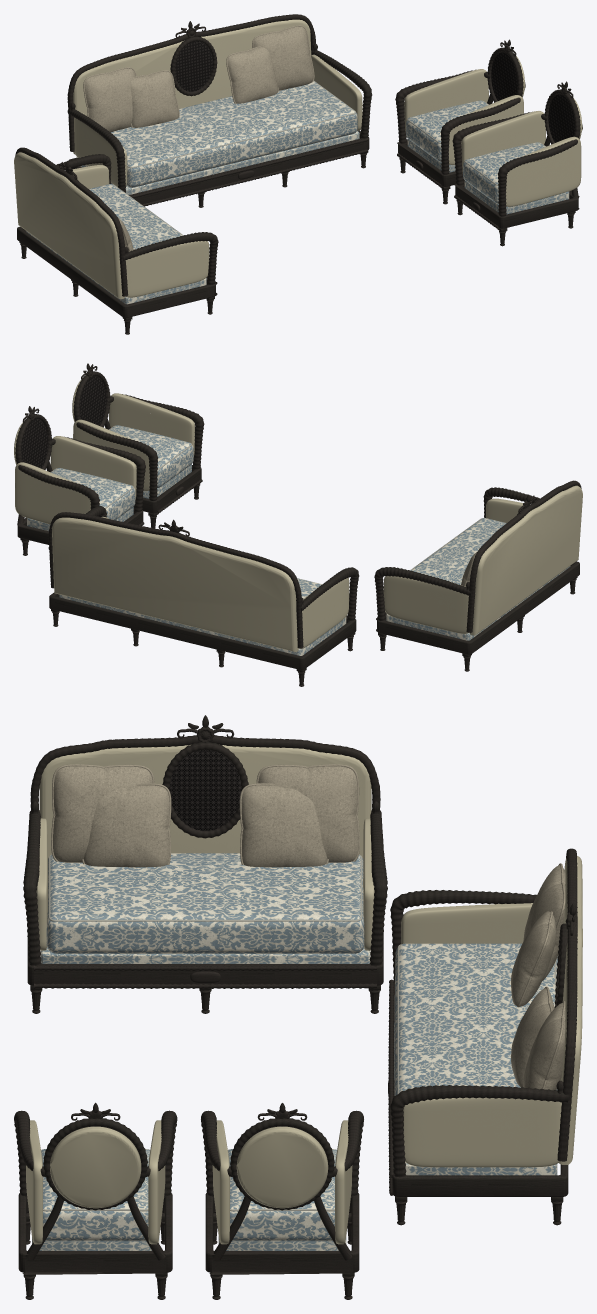
3 views of the same model, one above another, from view 1: azimuth 30°, elevation 25°; view 2: azimuth 150°, elevation 25°; view 3: azimuth 270°, elevation 25° (orthographic). The views are drawn at different scales.
Bounding box in the file's own units: 4.09 × 1.13 × 2.59.
Materials: 7 (7 with a texture image).
